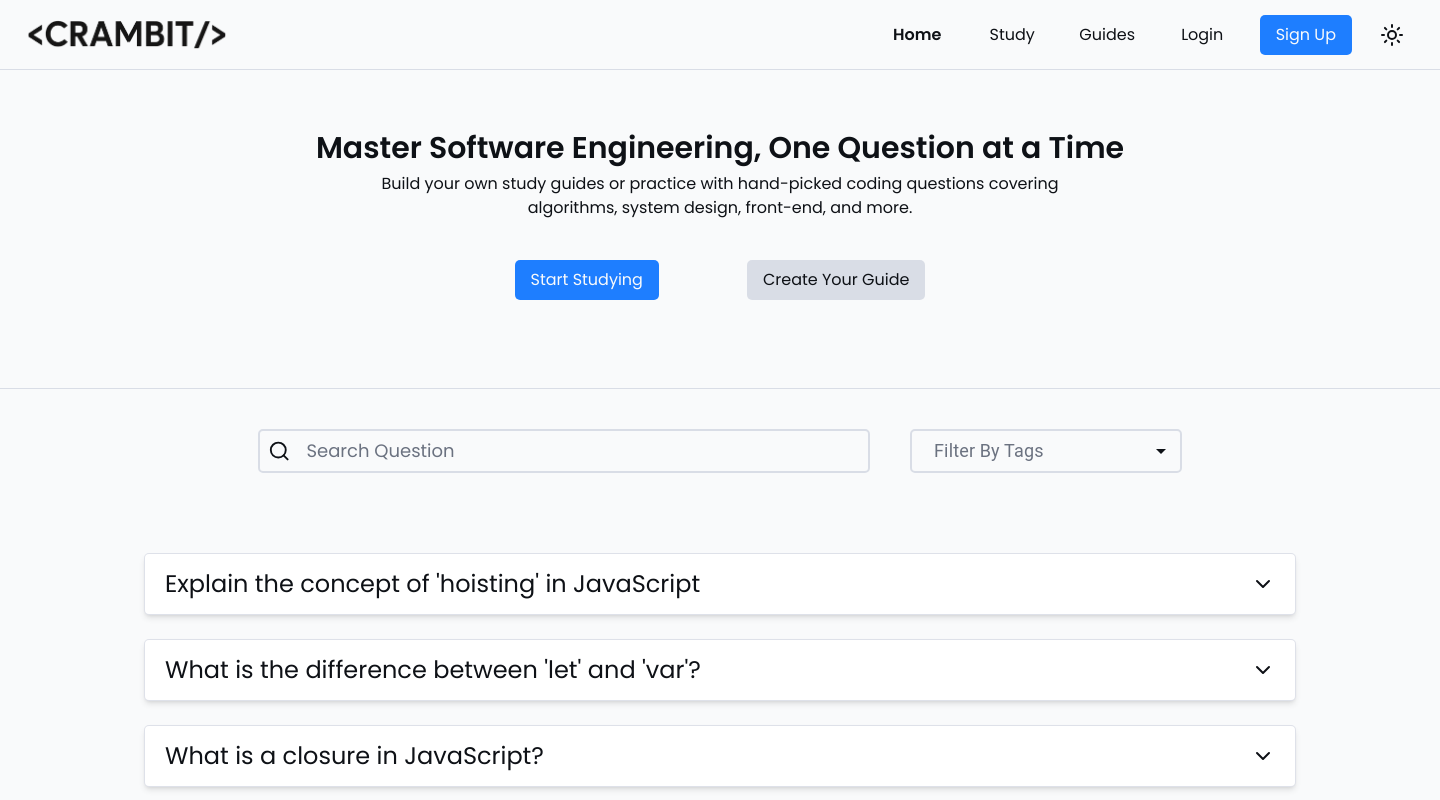
it: Toggle Theme › Theme Button › shows the correct icon based on theme
Click the element with test id "theme-button": x=1392, y=35 top-left (1380, 23), bottom-right (1404, 47)
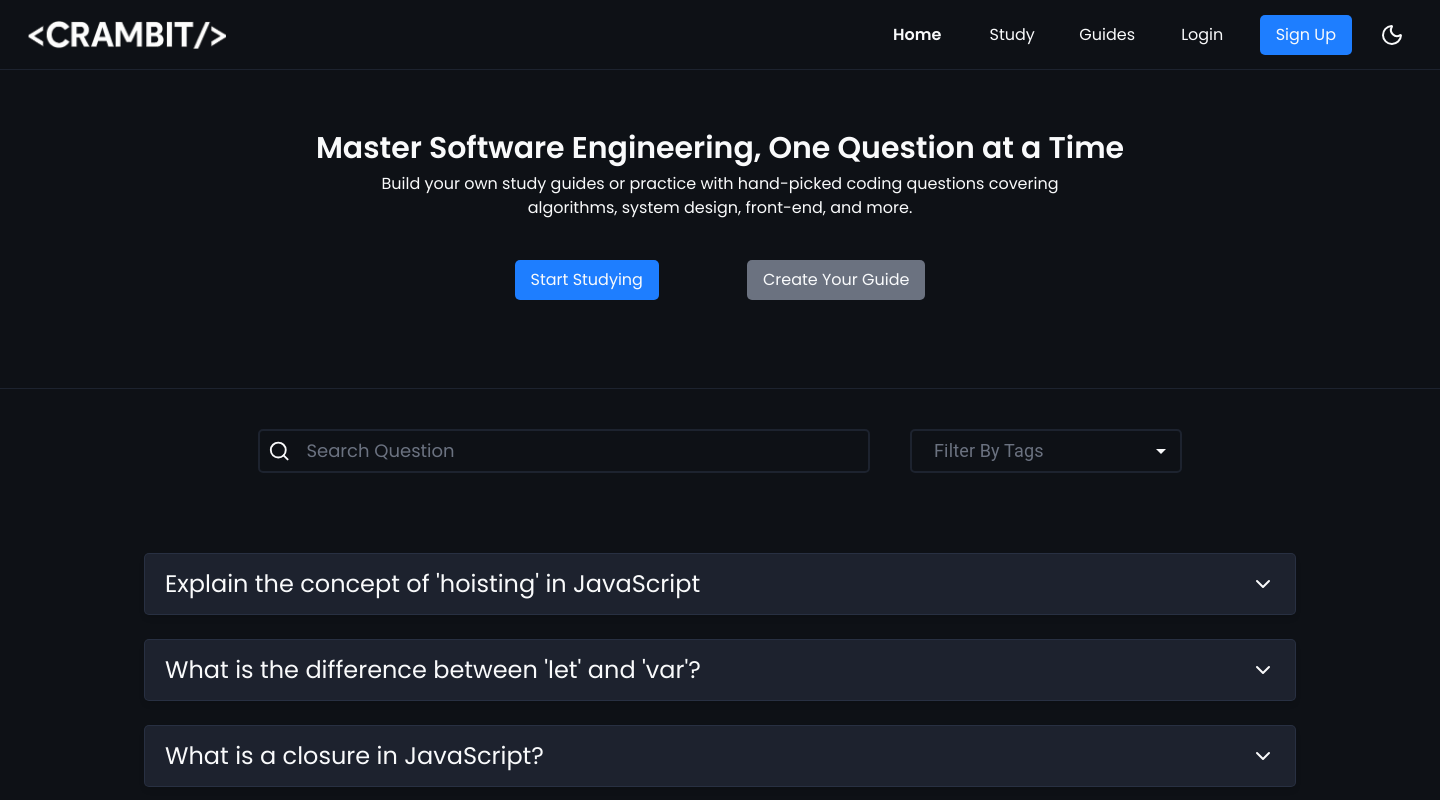
Expected: the icon with test id "icon-moon" is shown, top-left (1380, 23), bottom-right (1404, 47)
Expected: the icon with test id "icon-sun" is gone
